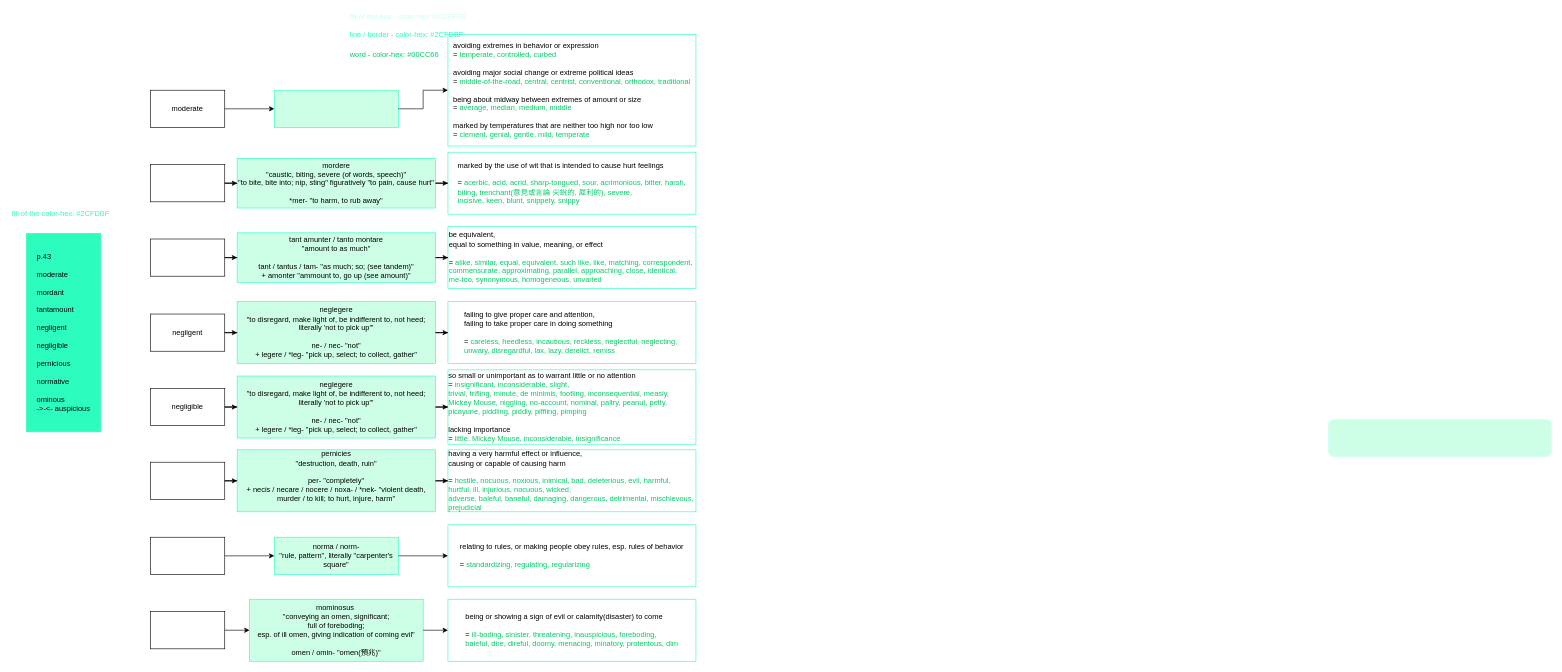
Image size: 1562x672. Some labels were removed from this diagram. Each missing label, with the centre of its shape:
log transformation: (1440,438)
moderat- / moderare / modest "reduced, controlled": (336,108)
mordant: (187,183)
normative: (187,555)
ominous: (187,630)
pernicious: (187,480)
tantamount: (187,257)
